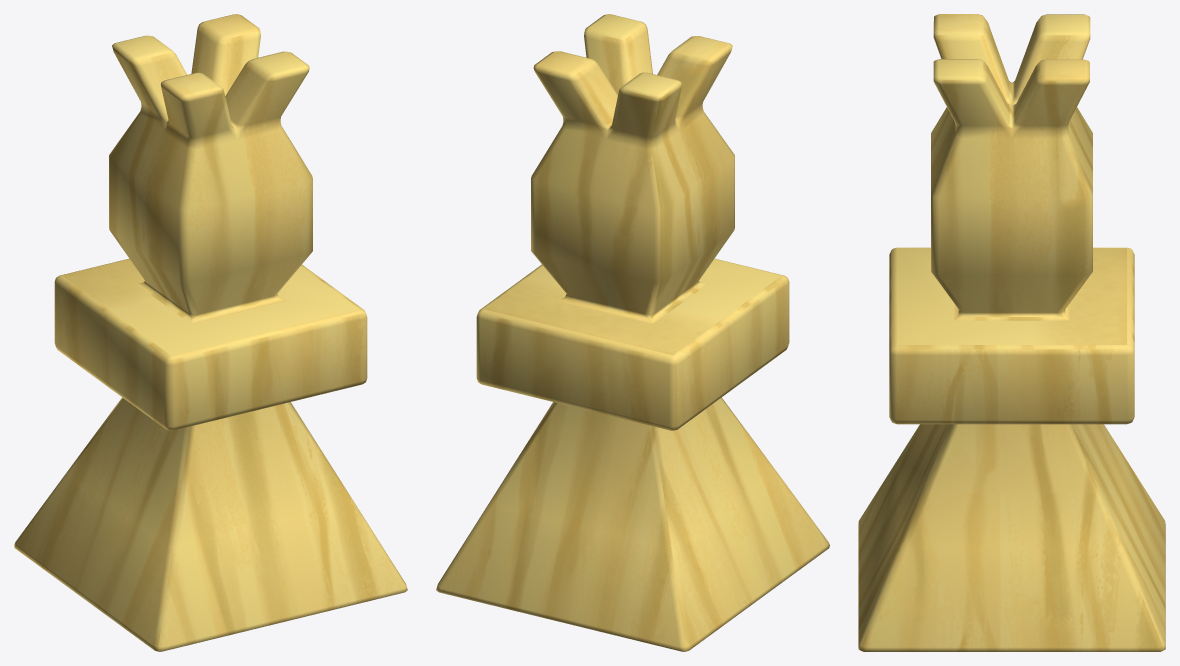
The model's file is Queen_2.fbx.
3 views of the same model, side by side, from view 1: azimuth 30°, elevation 25°; view 2: azimuth 150°, elevation 25°; view 3: azimuth 270°, elevation 25° (orthographic). The views are drawn at different scales.
Parts seen in each view (by area): view 1: Queen_2; view 2: Queen_2; view 3: Queen_2.
Boxes of the visible parts, left/top/right/bottom form: Queen_2: left=14, top=14, right=407, bottom=651; Queen_2: left=436, top=14, right=829, bottom=651; Queen_2: left=858, top=14, right=1165, bottom=651.
Bounding box in the file's own units: 198 × 386 × 198.
